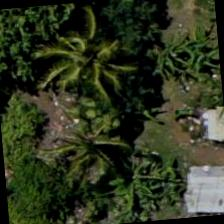Kelapa_Sawit: (40, 102, 138, 200), (36, 8, 134, 106)
